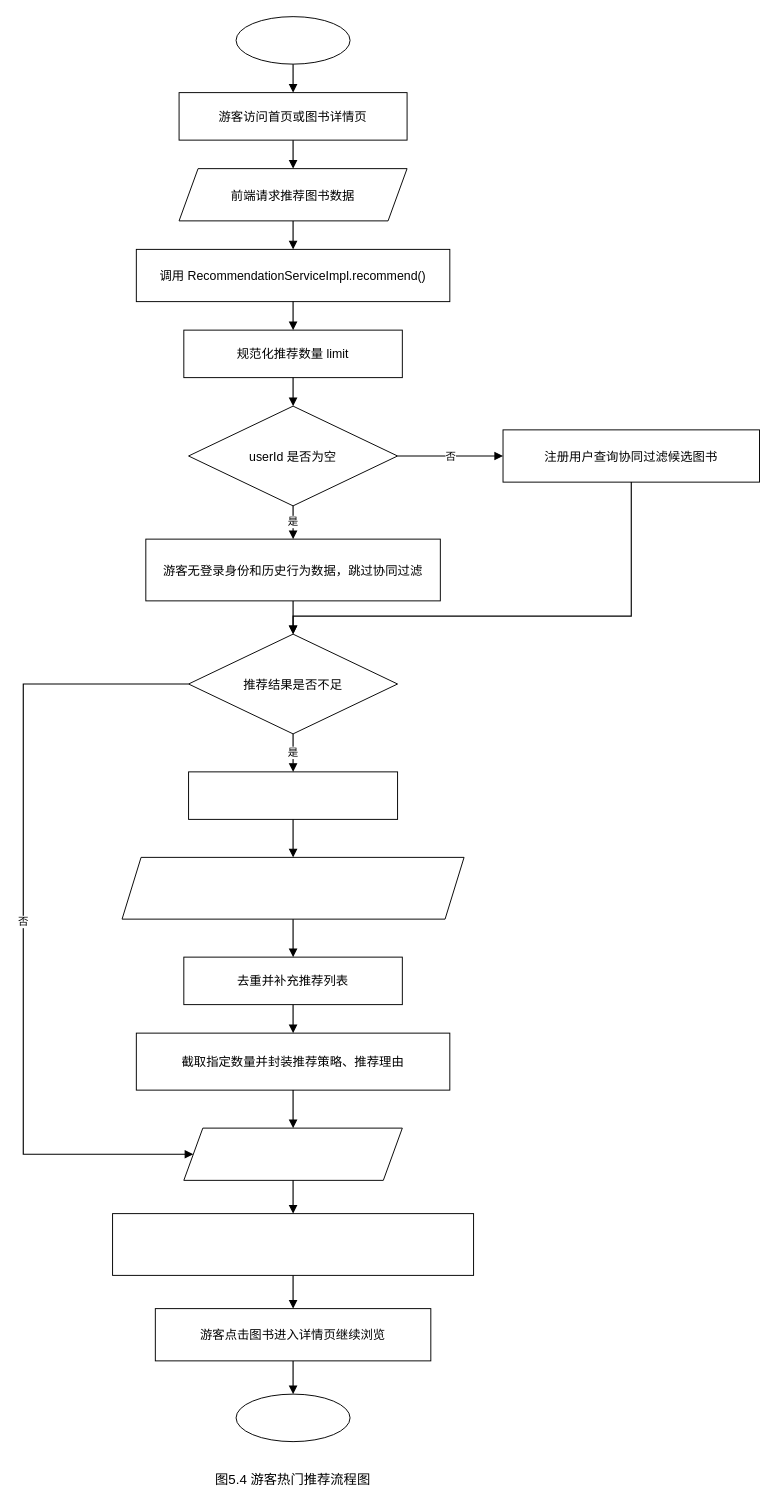
Image size: 777x1511. Some labels were removed from this diagram. The shapes that lost their labels are listed below. From the top down, each one's centre as x and y in pixels, then its label:
(292,40): 开始
(293,795): 查询热门候选图书
(292,887): 依据销量、浏览热度、加购行为或综合热度排序
(292,1153): 返回热门推荐结果
(293,1244): 前端以卡片网格展示封面、书名、作者、价格和推荐理由
(292,1417): 结束
